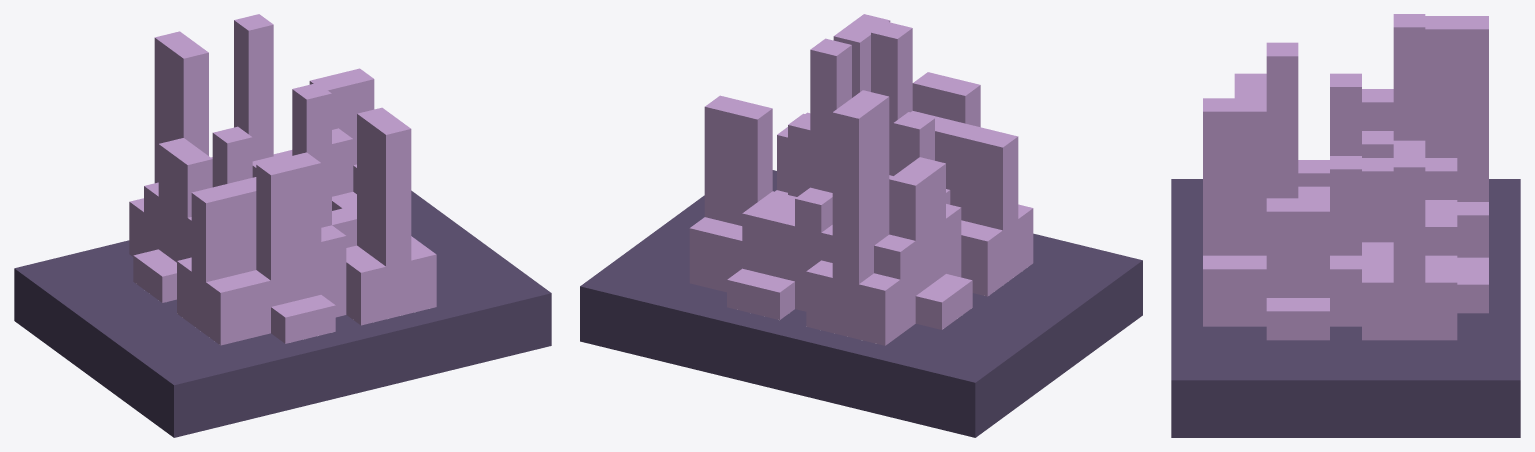
File: alien-biosphere-needle-bed-73a01c4c__22740.glb
The picture shows the model from 3 angles, left to right: view 1: azimuth 30°, elevation 25°; view 2: azimuth 150°, elevation 25°; view 3: azimuth 270°, elevation 25°; orthographic projection. The views are drawn at different scales.
Parts seen in each view (by area): view 1: needle-bed; view 2: needle-bed; view 3: needle-bed.
Boxes of the visible parts, x1=… form: needle-bed: x1=14, y1=14, x2=551, y2=437; needle-bed: x1=580, y1=14, x2=1142, y2=437; needle-bed: x1=1171, y1=14, x2=1520, y2=437.
Size of the model in its own units: 3 by 2.2 by 2.2.
